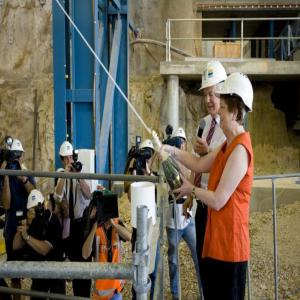white: (218, 74, 256, 135), (201, 60, 227, 118), (27, 190, 46, 220), (140, 140, 156, 169), (172, 128, 189, 155), (59, 143, 76, 170), (10, 141, 26, 165)
